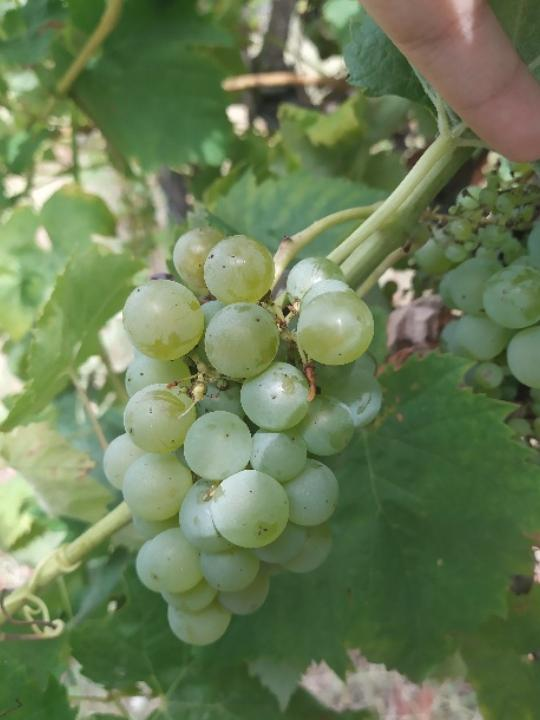grape: (100, 223, 388, 649)
